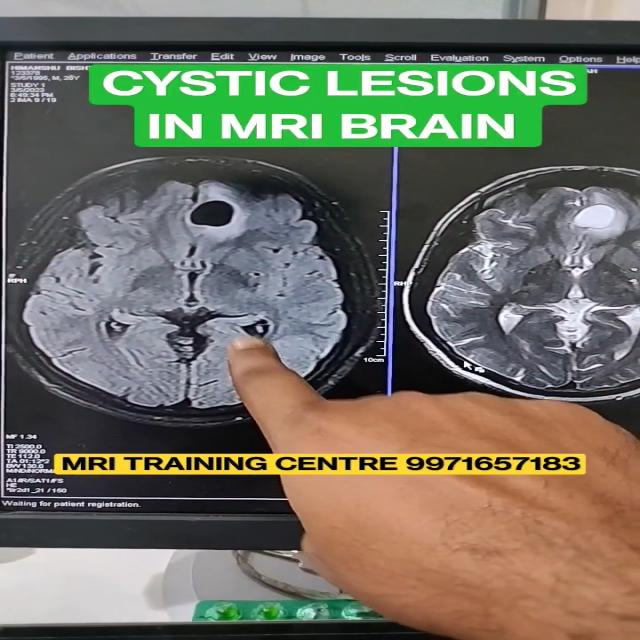tumor: (161, 180, 272, 246), (543, 192, 640, 234)
